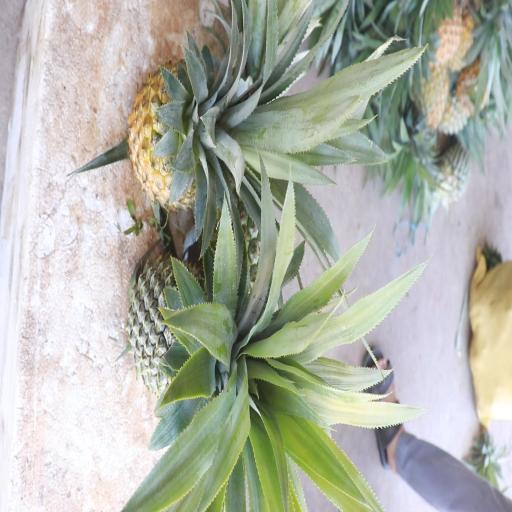Pineapple - v8 v1: (123, 54, 308, 214)
